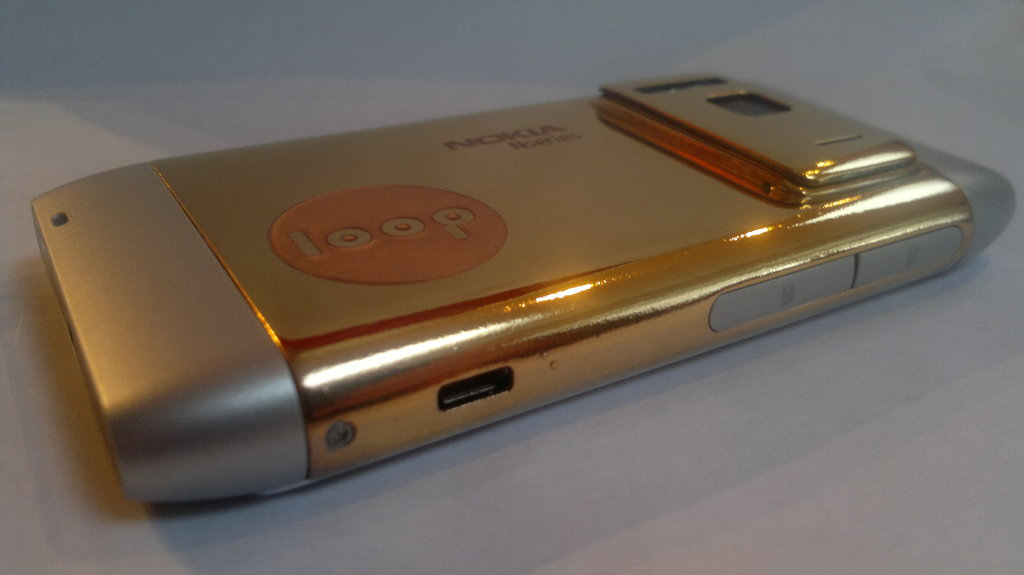mobile phone: (0, 69, 1015, 502)
